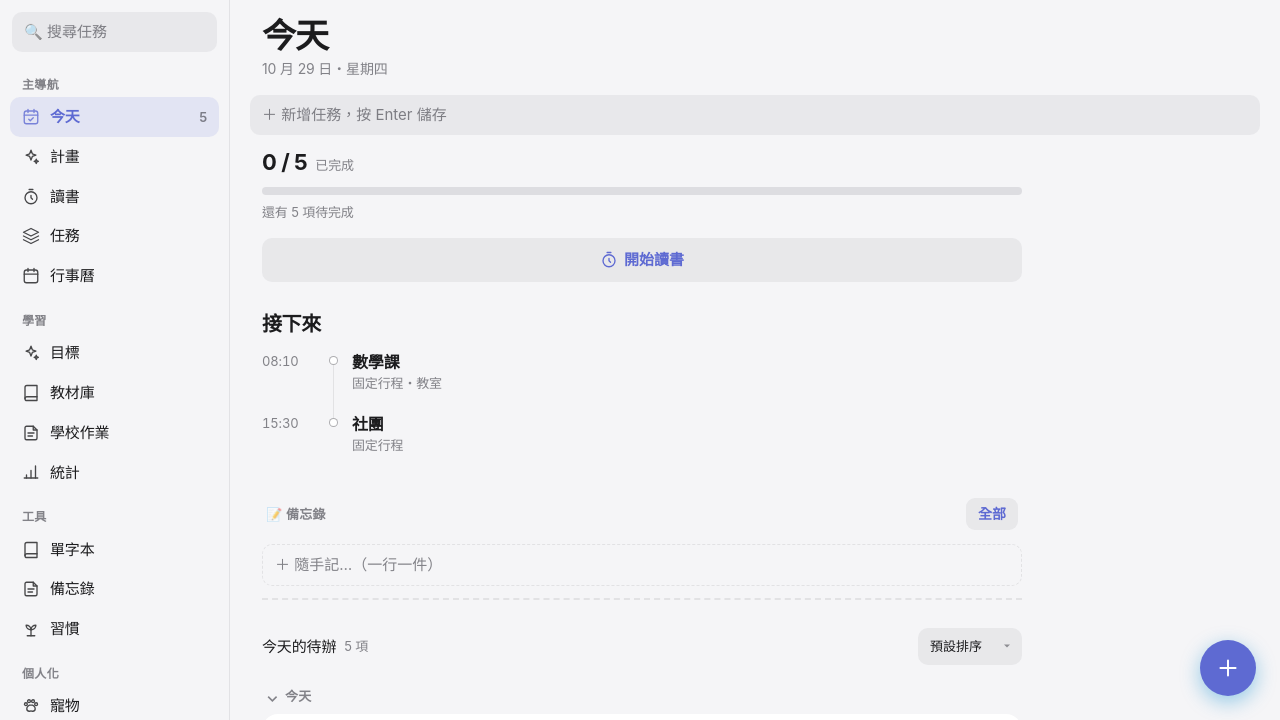
Test: 部分 API 失敗 › 完整 reload 時 /tasks 失敗：Global Add 提示已新增但無法重新載入，不重送 POST
The width and height of the screenshot is (1280, 720).
Expected: the heading "今天" is shown, [262,15,328,56]
Click the button named "新增".
click(1228, 668)  # box [1200,640,1256,696]
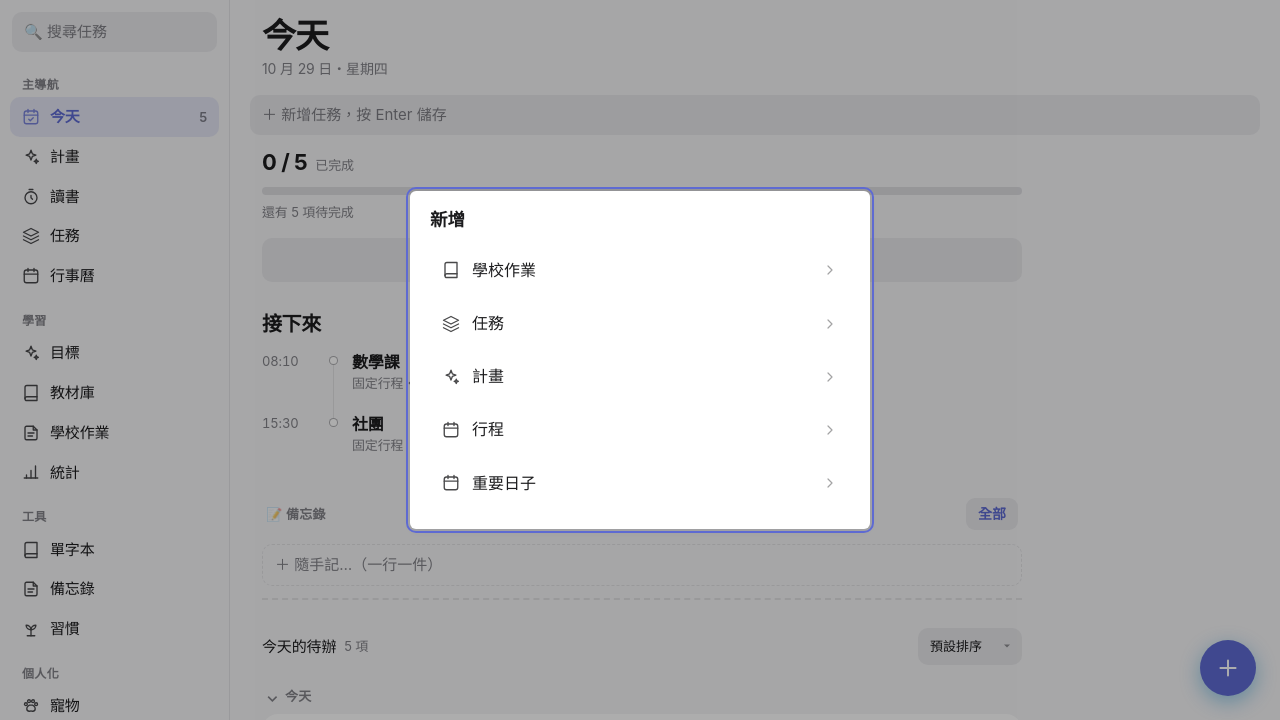
Click the button with aria-label "新增任務".
click(488, 323)  # box [430,298,850,349]
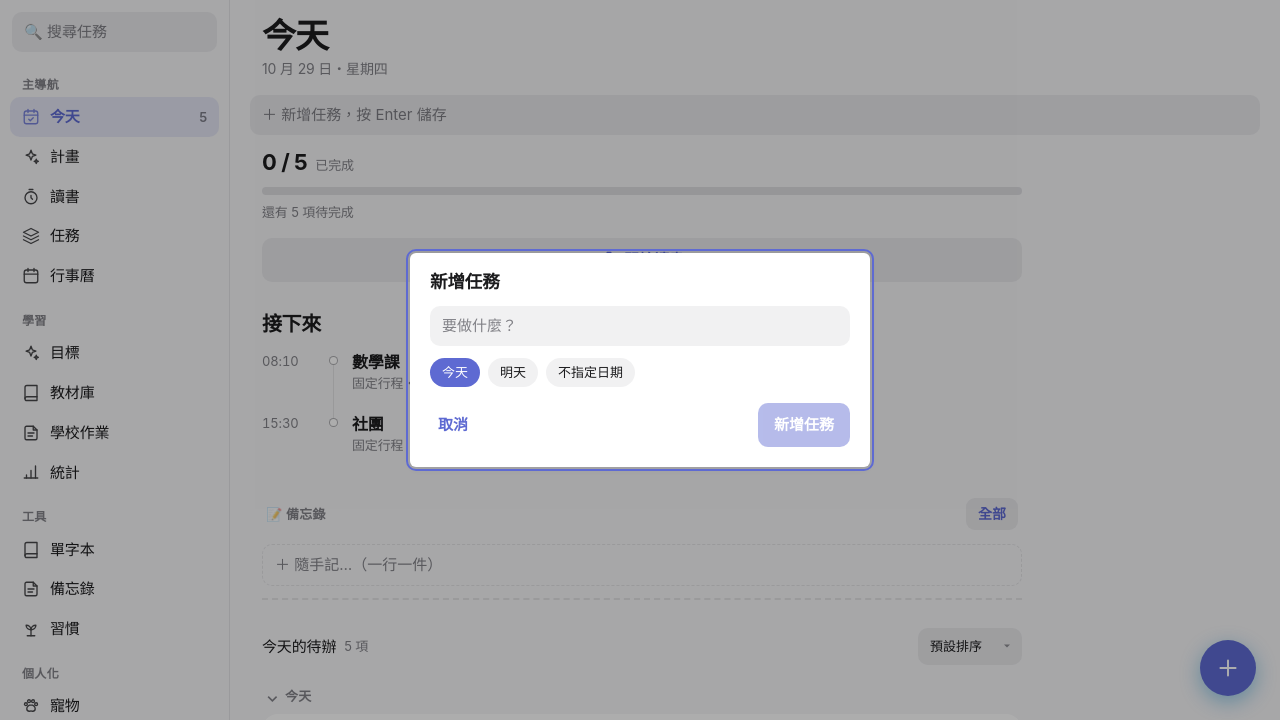
Type "新任務B" into the field named "任務標題".
click(640, 326); type("新任務B")  # box [430,306,850,346]
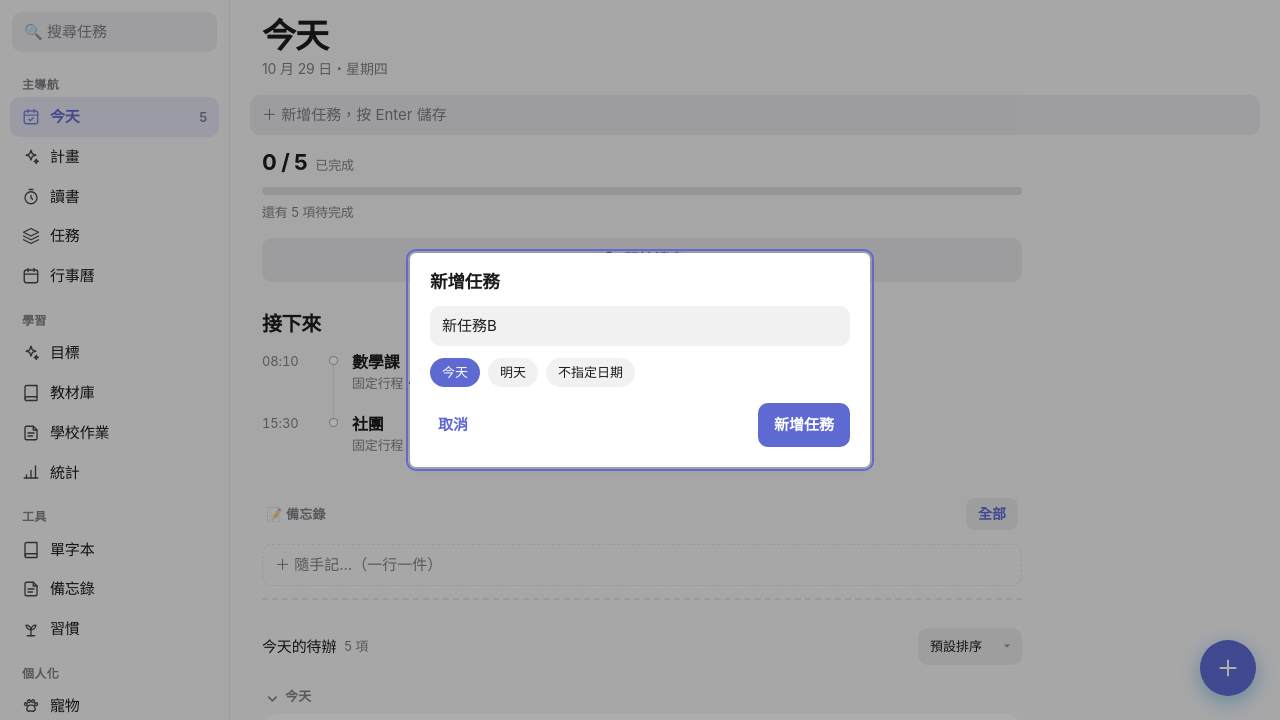
Click the button "新增任務".
click(804, 425)  # box [758,403,850,447]
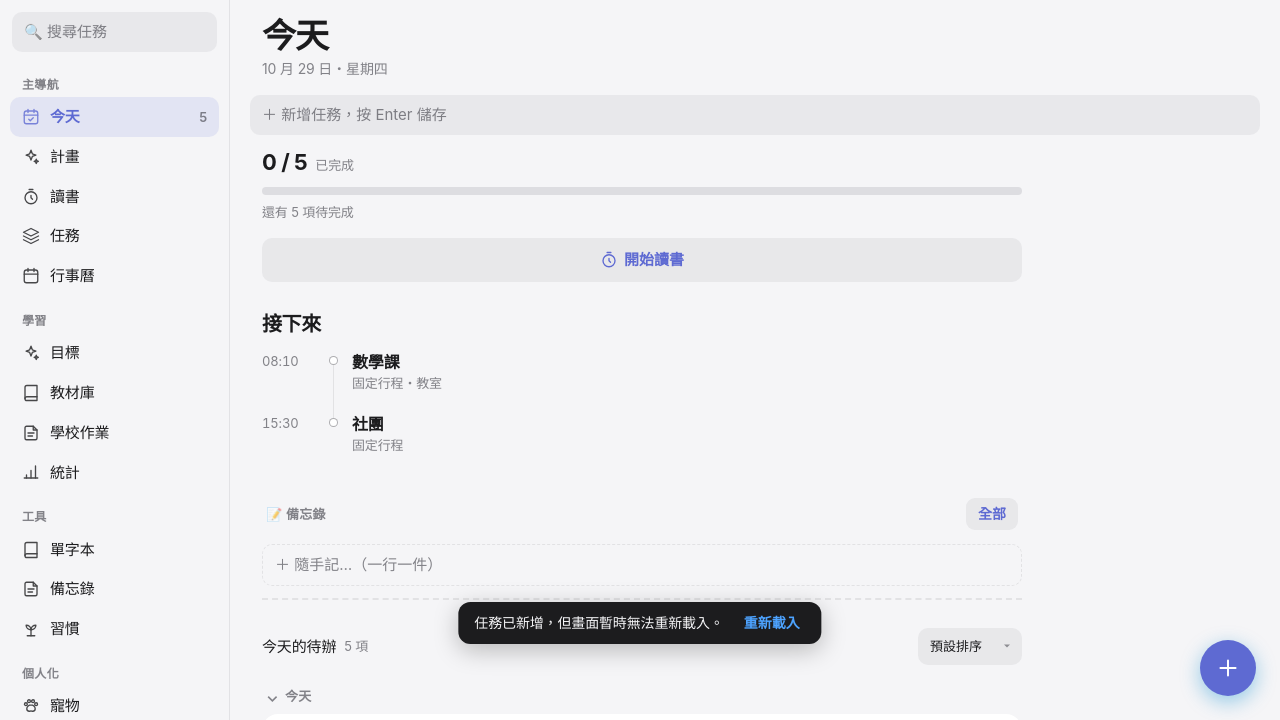
Result: the text "任務已新增，但畫面暫時無法重新載入。" is shown at [474,613,724,633]
Result: the field labelled "任務標題" is gone
